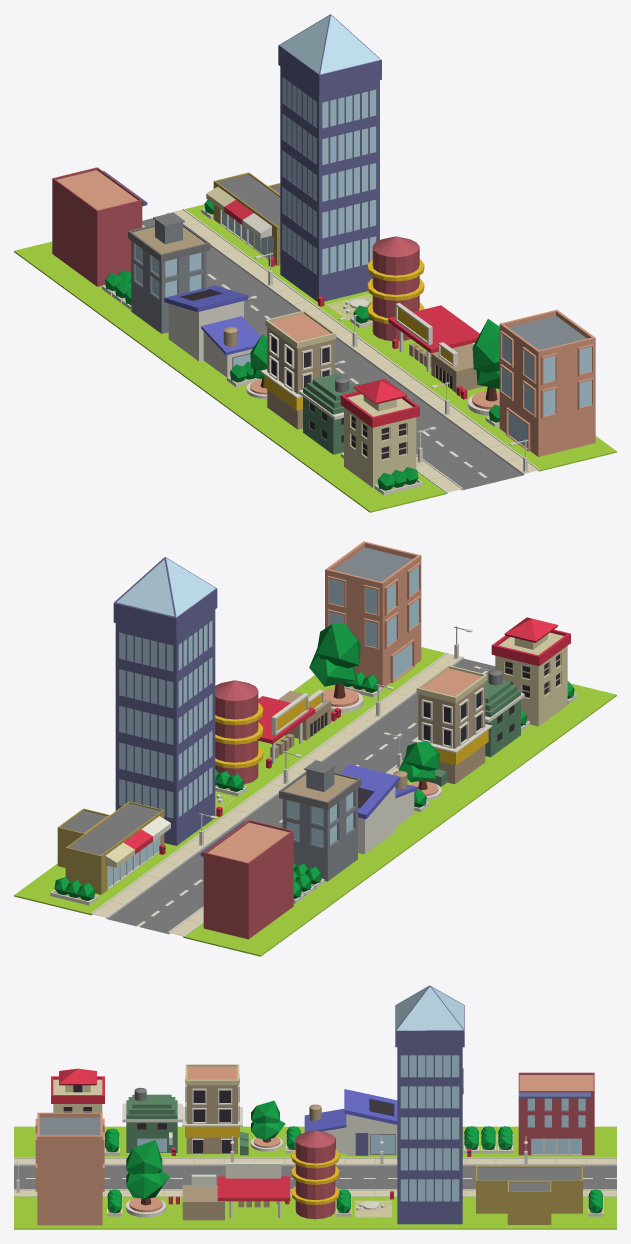
The model's file is 车场景2.fbx.
3 views of the same model, one above another, from view 1: azimuth 30°, elevation 25°; view 2: azimuth 150°, elevation 25°; view 3: azimuth 270°, elevation 25° (orthographic). The views are drawn at different scales.
Visible parts, largest first — view 1: 立方体_2; view 2: 立方体_2; view 3: 立方体_2.
Part boxes in pixels (box(x1,y1,x2,y2)): 立方体_2: box(14, 14, 616, 512); 立方体_2: box(14, 541, 616, 956); 立方体_2: box(14, 985, 616, 1229).
Size of the model in its own units: 4000 by 4164 by 10000.
Materials: 20 (1 with a texture image).
